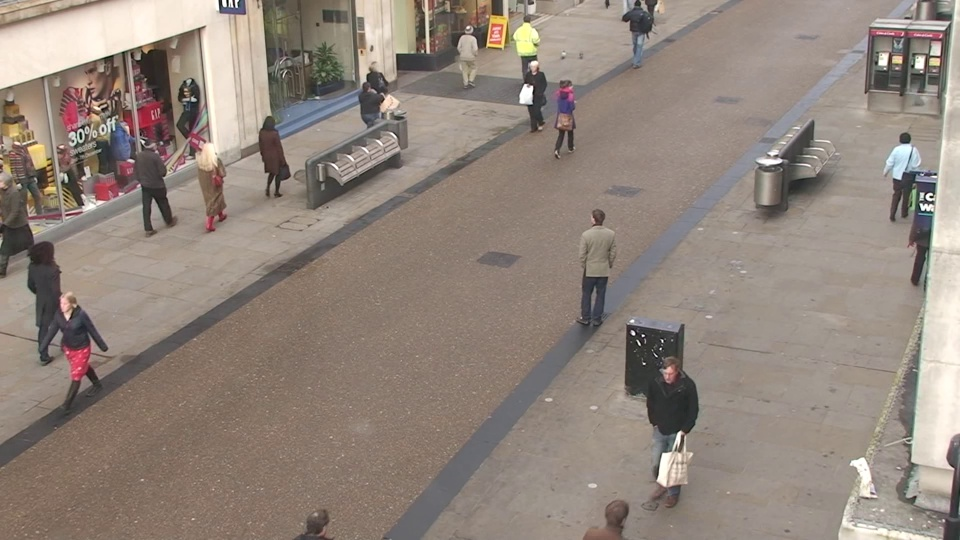pedestrian: (45, 286, 108, 424), (642, 352, 696, 509), (22, 236, 81, 362), (580, 202, 618, 323), (879, 128, 924, 230), (133, 133, 174, 230), (192, 138, 232, 237), (254, 112, 290, 204), (585, 486, 646, 540), (288, 493, 357, 540), (353, 78, 384, 162), (550, 75, 578, 160), (360, 60, 389, 139), (522, 58, 549, 137), (457, 22, 482, 92), (515, 12, 539, 79)
